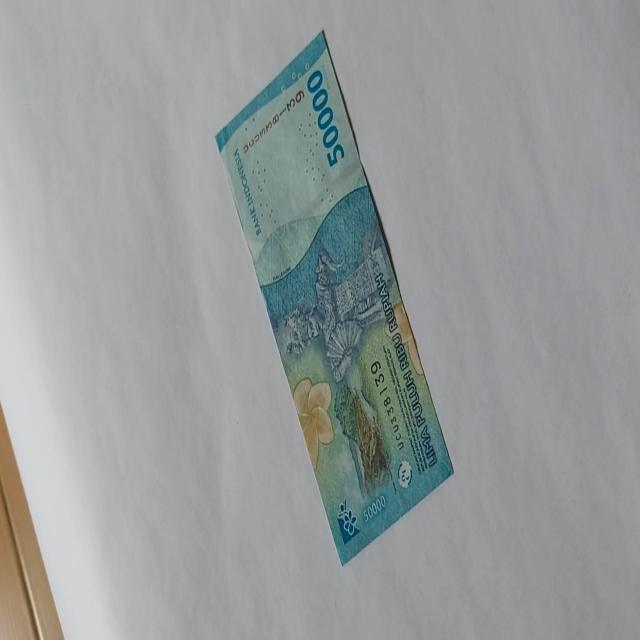lima puluh ribu rupiah: (214, 28, 455, 566)
